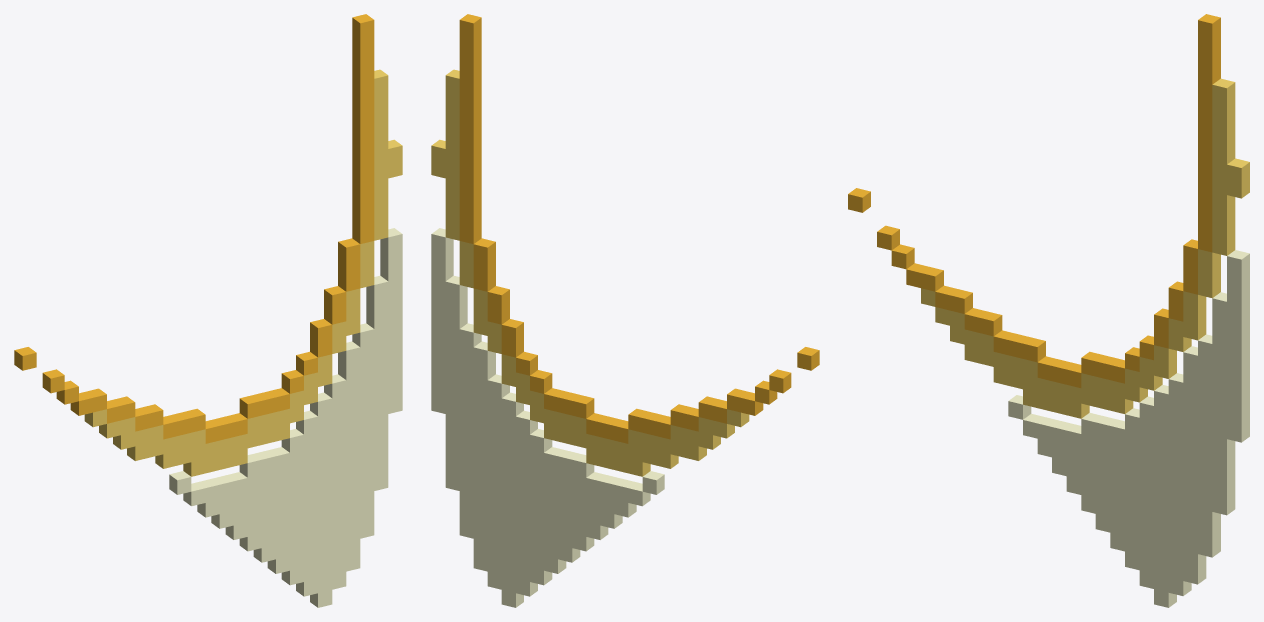
Rendered from Fight_714_2_05_fx.obj.
3 renders of one model, left to right at view 1: azimuth 30°, elevation 25°; view 2: azimuth 150°, elevation 25°; view 3: azimuth 330°, elevation 25°, orthographic. The views are drawn at different scales.
Bounding box in the file's own units: 2.7 × 3.9 × 0.1.
